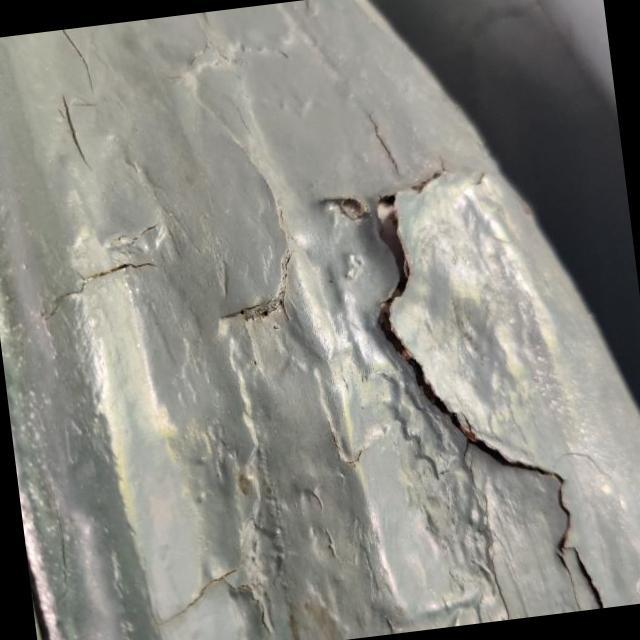Rupture: (277, 134, 628, 640)
